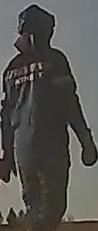gloves: (76, 128, 98, 167), (0, 147, 18, 185)
vest: (5, 51, 72, 161)
